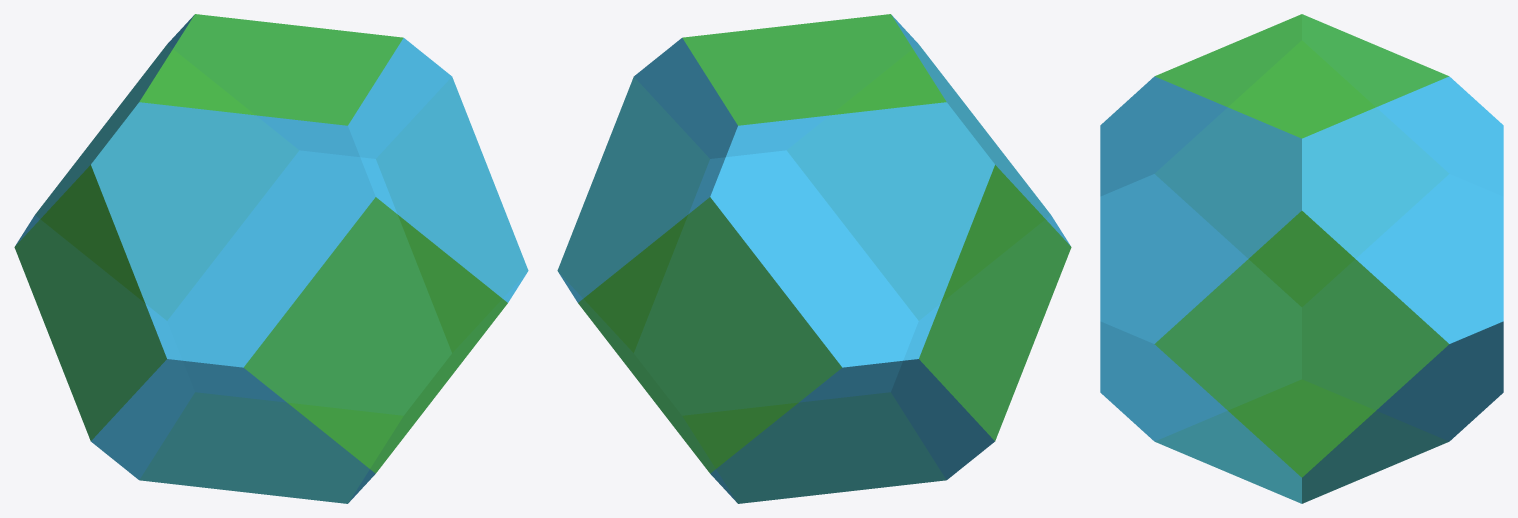
File: BiscribedTruncatedOctahedron.obj
3 renders of one model, left to right at view 1: azimuth 30°, elevation 25°; view 2: azimuth 150°, elevation 25°; view 3: azimuth 270°, elevation 25°, orthographic. The views are drawn at different scales.
Size of the model in its own units: 2 by 2 by 2.
